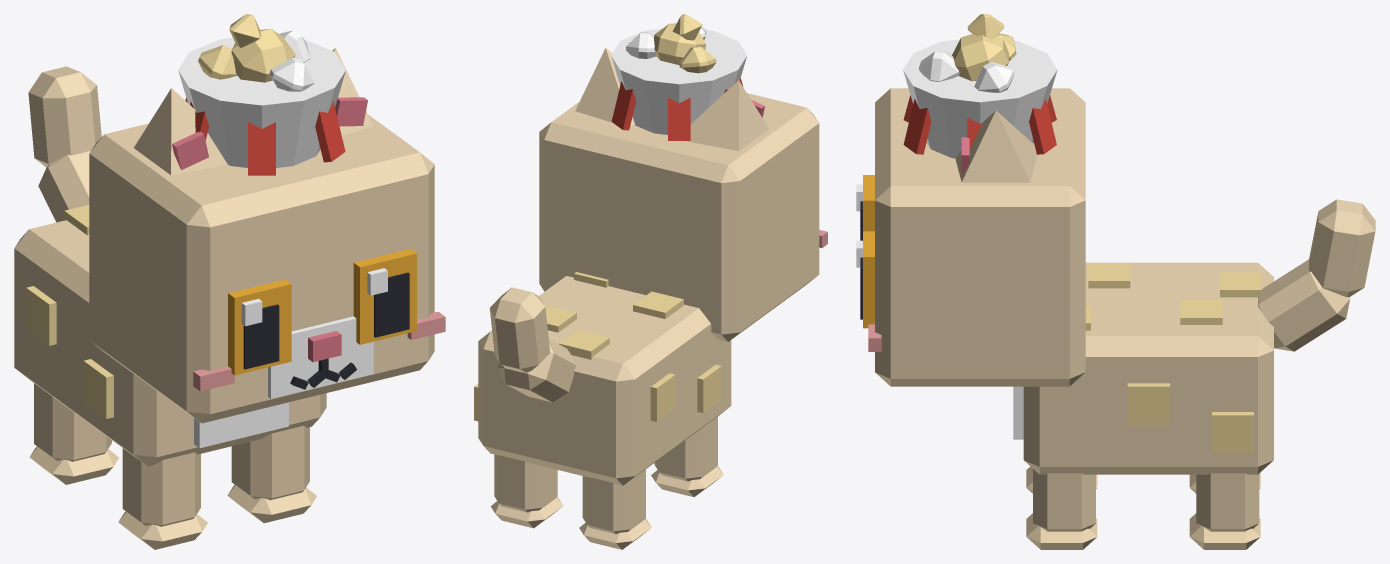
The model's file is CatCafe_Cat_Popcorn.glb.
3 views of the same model, side by side, from view 1: azimuth 30°, elevation 25°; view 2: azimuth 150°, elevation 25°; view 3: azimuth 270°, elevation 25° (orthographic). The views are drawn at different scales.
Visible parts, largest first — view 1: CatCafe_Cat_Popcorn_Head, CatCafe_Cat_Popcorn_Body, CatCafe_Cat_Popcorn_Prop, CatCafe_Cat_Popcorn_Tail, CatCafe_Cat_Popcorn_LegF2, CatCafe_Cat_Popcorn_LegF1, CatCafe_Cat_Popcorn_Eye2, CatCafe_Cat_Popcorn_Eye1, CatCafe_Cat_Popcorn_LegB2, CatCafe_Cat_Popcorn_EarR, CatCafe_Cat_Popcorn_EarL; view 2: CatCafe_Cat_Popcorn_Head, CatCafe_Cat_Popcorn_Body, CatCafe_Cat_Popcorn_Prop, CatCafe_Cat_Popcorn_Tail, CatCafe_Cat_Popcorn_LegB2, CatCafe_Cat_Popcorn_LegB1, CatCafe_Cat_Popcorn_EarR, CatCafe_Cat_Popcorn_LegF2, CatCafe_Cat_Popcorn_EarL; view 3: CatCafe_Cat_Popcorn_Head, CatCafe_Cat_Popcorn_Body, CatCafe_Cat_Popcorn_Prop, CatCafe_Cat_Popcorn_Tail, CatCafe_Cat_Popcorn_LegB1, CatCafe_Cat_Popcorn_LegF1, CatCafe_Cat_Popcorn_EarL, CatCafe_Cat_Popcorn_Eye1, CatCafe_Cat_Popcorn_Eye2.
Boxes of the visible parts, left/top/right/bottom form: CatCafe_Cat_Popcorn_Head: left=89, top=114, right=445, bottom=423; CatCafe_Cat_Popcorn_Body: left=14, top=205, right=326, bottom=466; CatCafe_Cat_Popcorn_Prop: left=178, top=14, right=345, bottom=175; CatCafe_Cat_Popcorn_Tail: left=28, top=66, right=101, bottom=222; CatCafe_Cat_Popcorn_LegF2: left=118, top=448, right=207, bottom=549; CatCafe_Cat_Popcorn_LegF1: left=227, top=425, right=316, bottom=523; CatCafe_Cat_Popcorn_Eye2: left=228, top=279, right=291, bottom=375; CatCafe_Cat_Popcorn_Eye1: left=353, top=249, right=416, bottom=344; CatCafe_Cat_Popcorn_LegB2: left=29, top=383, right=118, bottom=484; CatCafe_Cat_Popcorn_EarR: left=134, top=88, right=227, bottom=175; CatCafe_Cat_Popcorn_EarL: left=332, top=48, right=373, bottom=135; CatCafe_Cat_Popcorn_Head: left=539, top=93, right=827, bottom=341; CatCafe_Cat_Popcorn_Body: left=474, top=272, right=731, bottom=485; CatCafe_Cat_Popcorn_Prop: left=611, top=14, right=747, bottom=140; CatCafe_Cat_Popcorn_Tail: left=489, top=287, right=575, bottom=402; CatCafe_Cat_Popcorn_LegB2: left=579, top=469, right=651, bottom=549; CatCafe_Cat_Popcorn_LegB1: left=490, top=454, right=563, bottom=528; CatCafe_Cat_Popcorn_EarR: left=685, top=80, right=768, bottom=150; CatCafe_Cat_Popcorn_LegF2: left=651, top=416, right=723, bottom=496; CatCafe_Cat_Popcorn_EarL: left=575, top=48, right=634, bottom=126; CatCafe_Cat_Popcorn_Head: left=868, top=88, right=1085, bottom=386; CatCafe_Cat_Popcorn_Body: left=1013, top=262, right=1273, bottom=474; CatCafe_Cat_Popcorn_Prop: left=903, top=14, right=1057, bottom=158; CatCafe_Cat_Popcorn_Tail: left=1258, top=199, right=1375, bottom=351; CatCafe_Cat_Popcorn_LegB1: left=1189, top=473, right=1260, bottom=549; CatCafe_Cat_Popcorn_LegF1: left=1026, top=469, right=1097, bottom=549; CatCafe_Cat_Popcorn_EarL: left=955, top=110, right=1037, bottom=182; CatCafe_Cat_Popcorn_Eye1: left=856, top=231, right=874, bottom=328; CatCafe_Cat_Popcorn_Eye2: left=856, top=175, right=874, bottom=240.
Bounding box in the file's own units: 1 × 2.09 × 1.97.
1 material, 1 textured.
